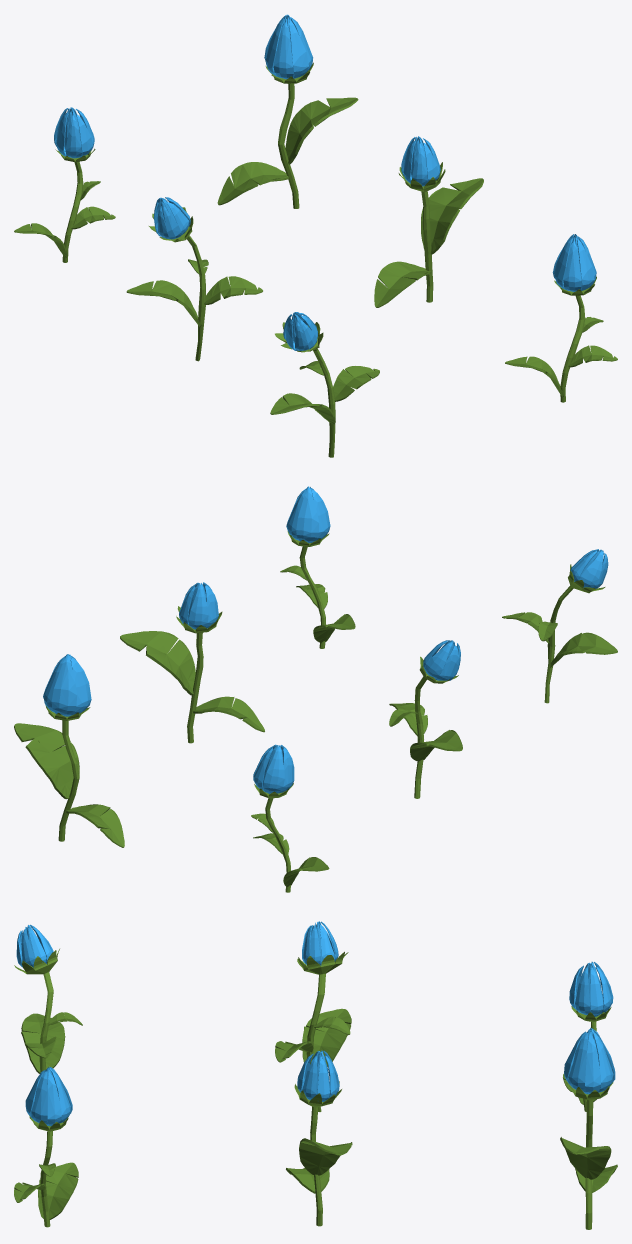
Rendered from Tulips.fbx.
The picture shows the model from 3 angles, top to bottom: view 1: azimuth 30°, elevation 25°; view 2: azimuth 150°, elevation 25°; view 3: azimuth 270°, elevation 25°; orthographic projection. The views are drawn at different scales.
Visible parts, largest first — view 1: Tulip_4, Tulip_2, Tulip_6, Tulip_1, Tulip_5, Tulip_3; view 2: Tulip_4, Tulip_2, Tulip_5, Tulip_6, Tulip_1, Tulip_3; view 3: Tulip_4, Tulip_1, Tulip_6, Tulip_2, Tulip_5, Tulip_3.
Part boxes in pixels (x1,y1,x2,y2): Tulip_4: [217, 14, 358, 208]; Tulip_2: [374, 136, 483, 307]; Tulip_6: [126, 197, 262, 361]; Tulip_1: [505, 234, 617, 402]; Tulip_5: [270, 312, 379, 457]; Tulip_3: [14, 107, 115, 262]; Tulip_4: [14, 654, 124, 847]; Tulip_2: [120, 582, 264, 743]; Tulip_5: [502, 549, 617, 703]; Tulip_6: [389, 640, 462, 798]; Tulip_1: [280, 486, 355, 648]; Tulip_3: [251, 744, 329, 892]; Tulip_4: [560, 1027, 617, 1229]; Tulip_1: [14, 1066, 78, 1227]; Tulip_6: [275, 921, 351, 1111]; Tulip_2: [286, 1050, 352, 1226]; Tulip_5: [14, 924, 82, 1073]; Tulip_3: [563, 961, 613, 1111].
Size of the model in its own units: 156 by 80.12 by 223.
